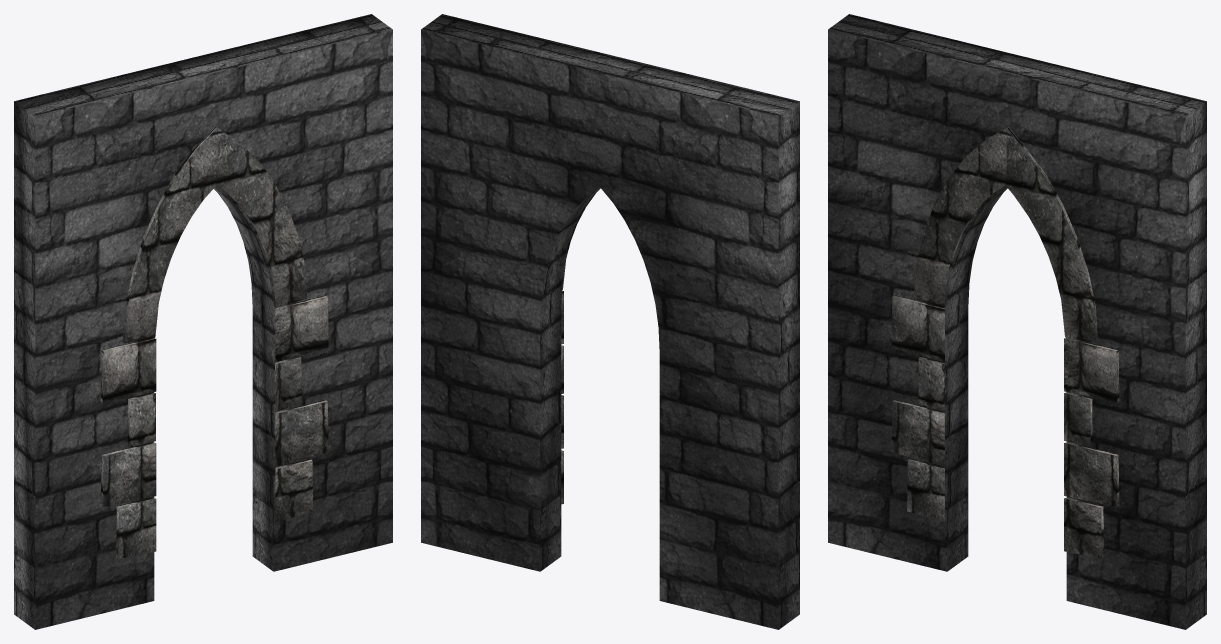
Rendered from stone wall door.glb.
The picture shows the model from 3 angles, left to right: view 1: azimuth 30°, elevation 25°; view 2: azimuth 150°, elevation 25°; view 3: azimuth 330°, elevation 25°; orthographic projection.
Parts seen in each view (by area): view 1: Pointed Arch Door; view 2: Pointed Arch Door; view 3: Pointed Arch Door.
Boxes of the visible parts, x1,y1,x2,y2 form: Pointed Arch Door: (14, 14, 392, 629); Pointed Arch Door: (421, 14, 799, 629); Pointed Arch Door: (828, 14, 1206, 629).
Size of the model in its own units: 2 by 2.74 by 0.225.
Materials: 2 (2 with a texture image).
